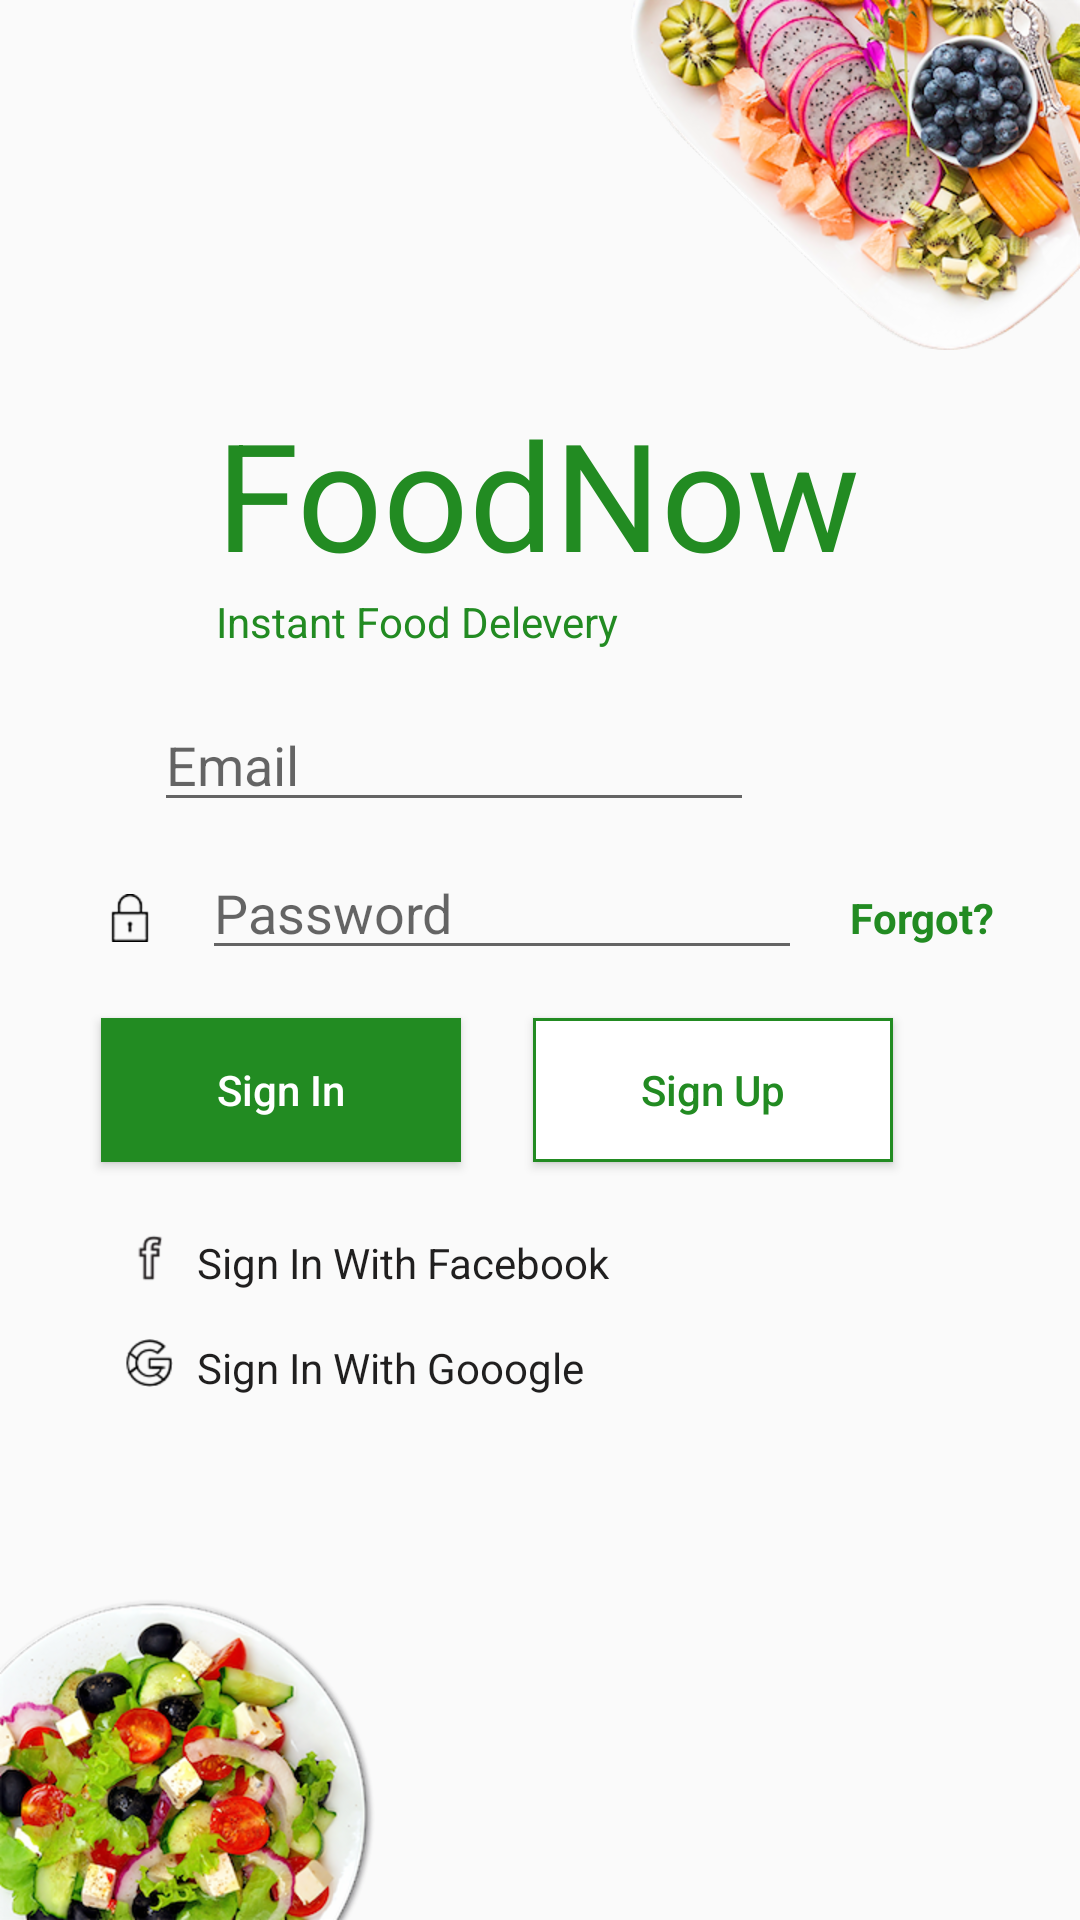

Screen size 1080*1920. Icon name, then its box in pixels as bbox=[x1, y1, x2, y2]:
lock: bbox=[111, 894, 149, 942]
